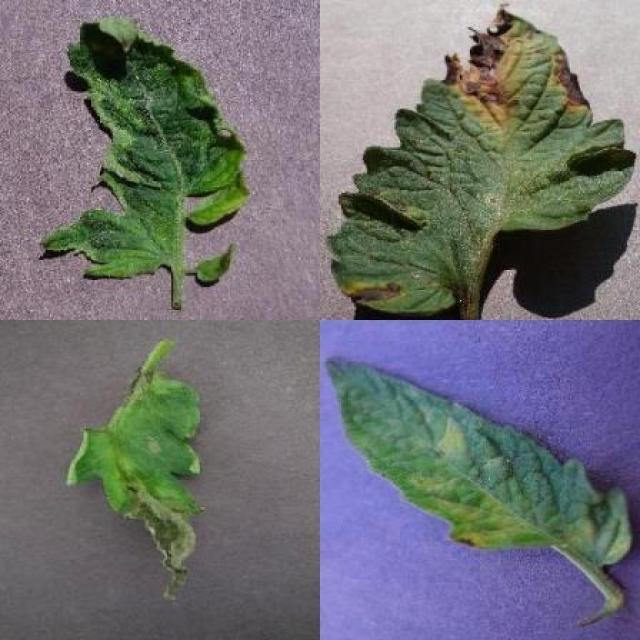Early Blight: (330, 10, 636, 317)
Late Blight: (62, 369, 205, 600)
Leaf Mold: (326, 357, 633, 570)
Mosaic Virus: (35, 19, 251, 281)
